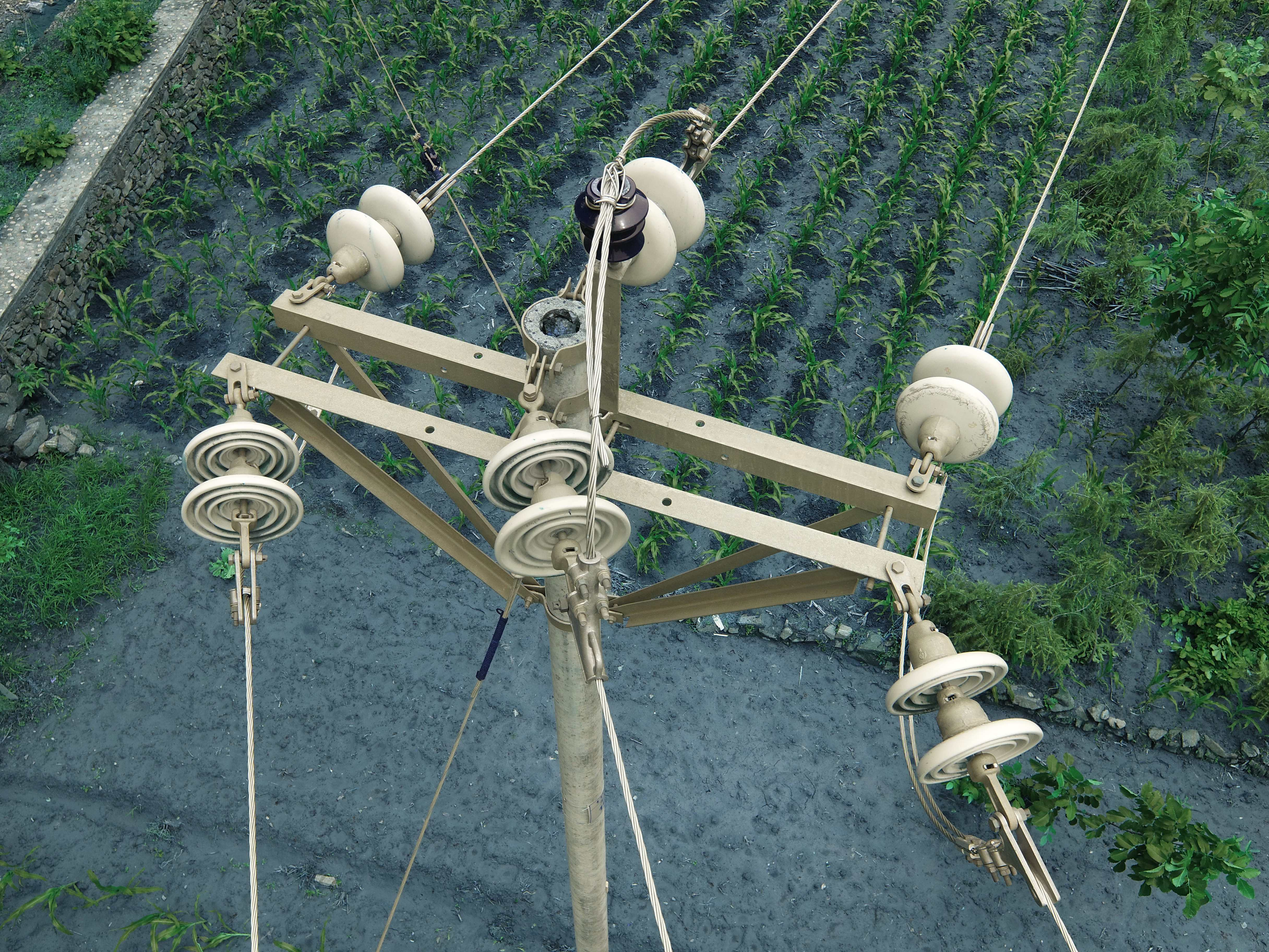severe_soiling_no_discharge_whole: (481, 408, 635, 576), (171, 409, 306, 543), (891, 338, 1022, 473), (581, 474, 599, 552)
